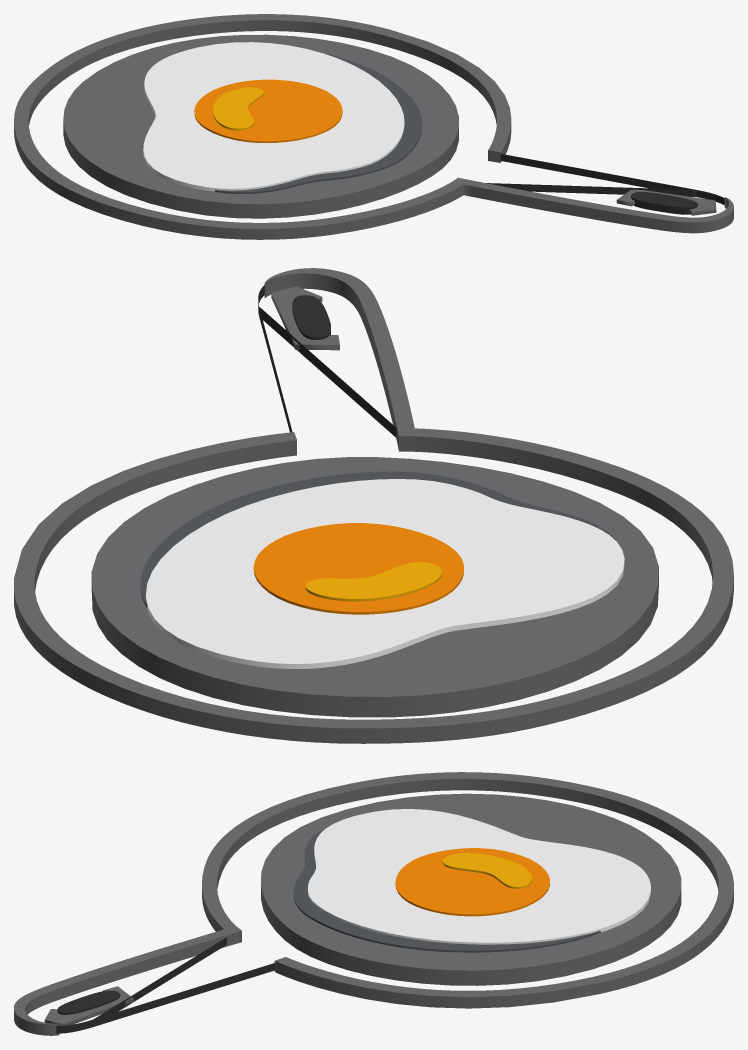
The model's file is emoji_u1f373.glb.
3 renders of one model, top to bottom at view 1: azimuth 30°, elevation 25°; view 2: azimuth 150°, elevation 25°; view 3: azimuth 270°, elevation 25°, orthographic. The views are drawn at different scales.
Visible parts, largest first — view 1: emoji_u1f373; view 2: emoji_u1f373; view 3: emoji_u1f373.
Boxes of the visible parts, x1,y1,x2,y2 form: emoji_u1f373: (14, 14, 733, 239); emoji_u1f373: (14, 268, 733, 743); emoji_u1f373: (14, 772, 733, 1035).
Bounding box in the file's own units: 0.0285 × 0.0016 × 0.0343.
